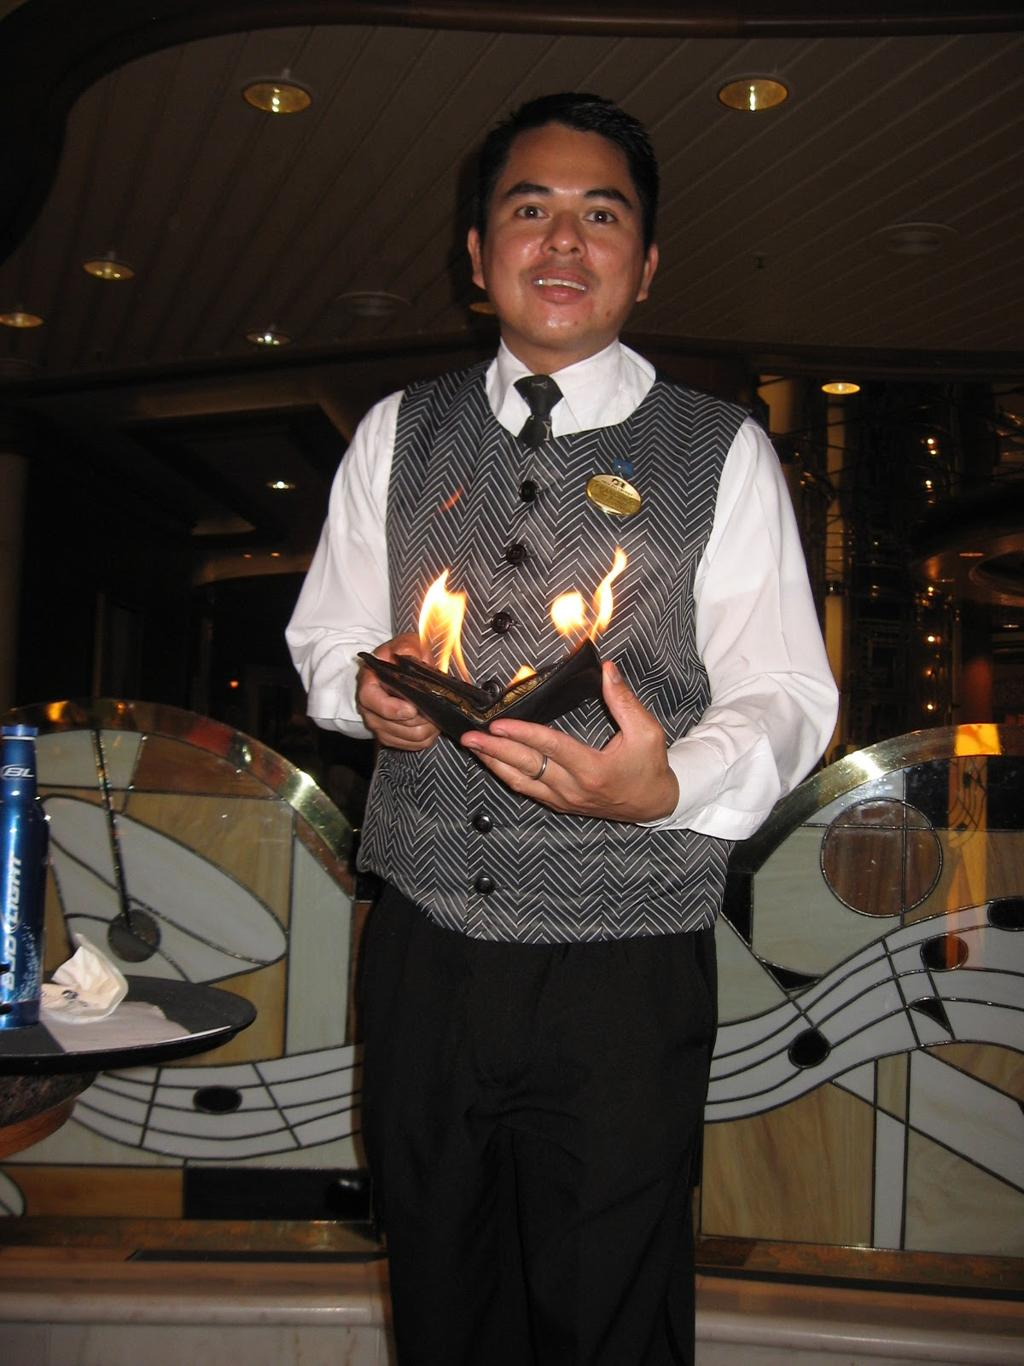face: (483, 112, 646, 339)
